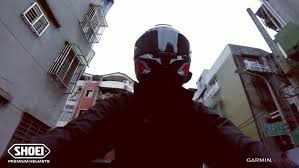helmet: (131, 30, 192, 85)
